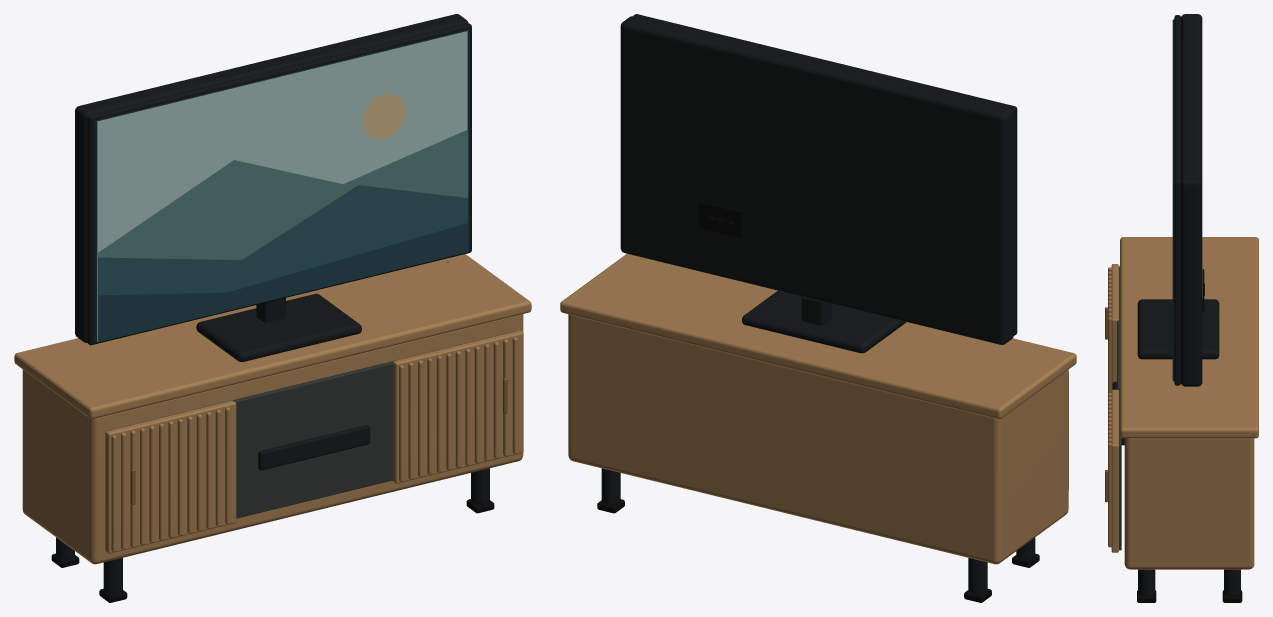
File: tv-studio-43.glb
The picture shows the model from 3 angles, left to right: view 1: azimuth 30°, elevation 25°; view 2: azimuth 150°, elevation 25°; view 3: azimuth 270°, elevation 25°; orthographic projection. The views are drawn at different scales.
Parts seen in each view (by area): view 1: Screen sky, Floating console top, Console carcass, Screen ridge 0, Dark recessed front, Screen ridge 1, Screen ridge 2, Sliding door panel, Sliding door panel.001, TV rear housing, TV pedestal base, Slim display bezel (+27 smaller); view 2: TV rear housing, Console carcass, Floating console top, TV pedestal base, Slim display bezel, Rear connection bay, TV pedestal neck, Console leg.003; view 3: Floating console top, Console carcass, TV rear housing, TV pedestal base, Slim display bezel, Sliding door panel.001, Screen glass, Sliding door panel, Dark recessed front, Console leg.002, Console leg.003, Reeded wood flute.025 (+1 smaller).
Part boxes in pixels (x1,y1,x2,y2): Screen sky: [97, 31, 467, 341]; Floating console top: [14, 254, 531, 418]; Console carcass: [22, 314, 523, 564]; Screen ridge 0: [98, 129, 468, 259]; Dark recessed front: [107, 331, 515, 518]; Screen ridge 1: [98, 185, 468, 341]; Screen ridge 2: [98, 222, 468, 342]; Sliding door panel: [105, 400, 236, 553]; Sliding door panel.001: [392, 330, 523, 483]; TV rear housing: [75, 14, 468, 342]; TV pedestal base: [196, 293, 361, 361]; Slim display bezel: [87, 23, 471, 345]; TV rear housing: [620, 16, 1013, 344]; Console carcass: [568, 314, 1068, 564]; Floating console top: [560, 253, 1076, 419]; TV pedestal base: [742, 290, 906, 353]; Slim display bezel: [633, 14, 1017, 335]; Rear connection bay: [698, 201, 742, 238]; TV pedestal neck: [801, 296, 831, 325]; Console leg.003: [601, 468, 620, 504]; Floating console top: [1120, 237, 1258, 438]; Console carcass: [1124, 438, 1254, 569]; TV rear housing: [1181, 14, 1202, 386]; TV pedestal base: [1137, 299, 1219, 359]; Slim display bezel: [1174, 15, 1180, 385]; Sliding door panel.001: [1111, 389, 1118, 552]; Screen glass: [1172, 19, 1174, 381]; Sliding door panel: [1111, 264, 1118, 390]; Dark recessed front: [1117, 266, 1121, 550]; Console leg.002: [1138, 569, 1155, 596]; Console leg.003: [1224, 569, 1240, 596]; Reeded wood flute.025: [1108, 442, 1111, 547].
Size of the model in its own units: 1.12 by 1.14 by 0.377.
